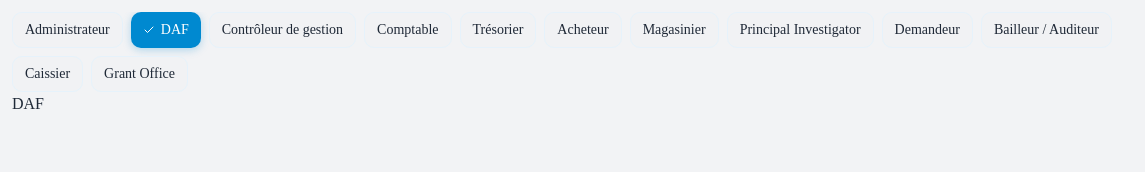
Test: AdminUserRoleSelector › readonlyRoles : autorise l'AJOUT du rôle verrouillé (jamais sélectionné encore)
This screenshot has width=1145, height=172.
Click the button with test id "role-SUPER_ADMIN": {"x": 67, "y": 30} [12,12,123,48]
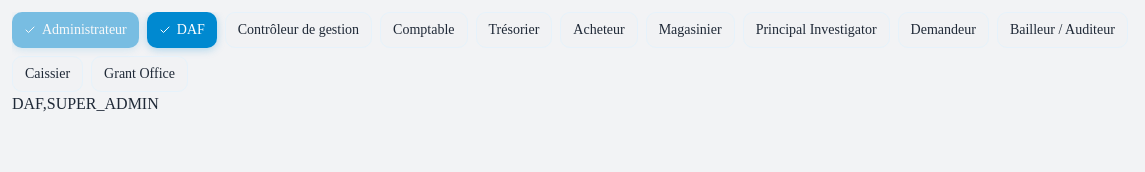
Now the text with test id "harness-value" reads "DAF,SUPER_ADMIN", box [12,95,159,112]
